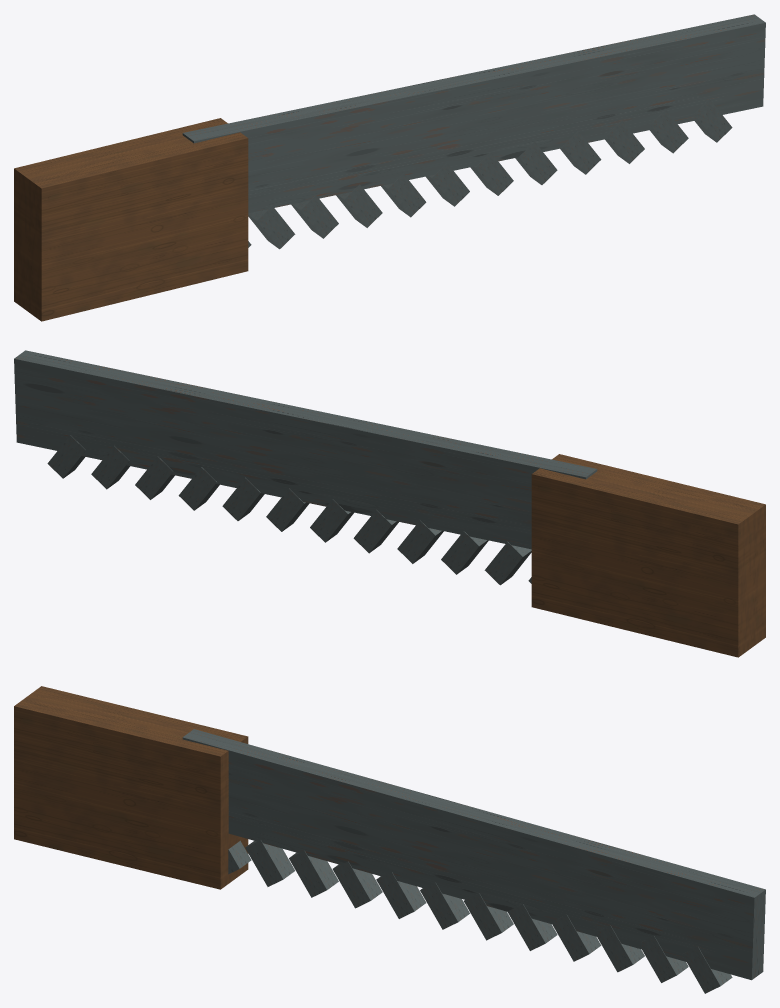
The model's file is ax-tool-003_hand_saw__clean.obj.
The picture shows the model from 3 angles, top to bottom: view 1: azimuth 30°, elevation 25°; view 2: azimuth 150°, elevation 25°; view 3: azimuth 330°, elevation 25°; orthographic projection.
Visible parts, largest first — view 1: ax-tool-003_hand_saw__clean; view 2: ax-tool-003_hand_saw__clean; view 3: ax-tool-003_hand_saw__clean.
Boxes of the visible parts, left/top/right/bottom form: ax-tool-003_hand_saw__clean: left=14, top=14, right=765, bottom=321; ax-tool-003_hand_saw__clean: left=14, top=350, right=765, bottom=657; ax-tool-003_hand_saw__clean: left=14, top=686, right=765, bottom=993.
Bounding box in the file's own units: 0.5497 × 0.097 × 0.0358.
2 materials, 2 textured.
